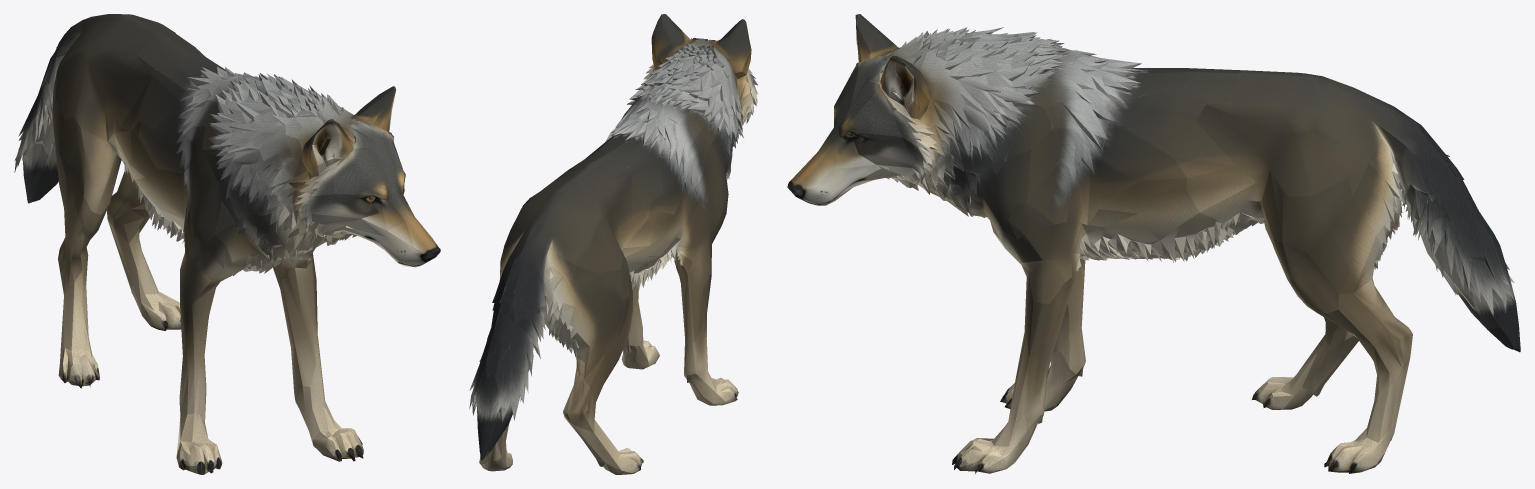
3 renders of one model, left to right at view 1: azimuth 30°, elevation 25°; view 2: azimuth 150°, elevation 25°; view 3: azimuth 270°, elevation 25°, orthographic. The views are drawn at different scales.
Size of the model in its own units: 0.5205 by 1.19 by 1.9.
Materials: 1 (1 with a texture image).
